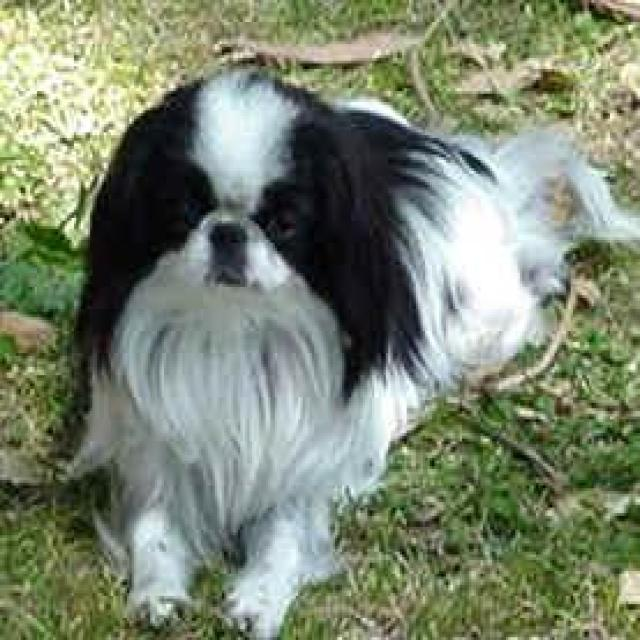husky: (72, 61, 638, 637)
